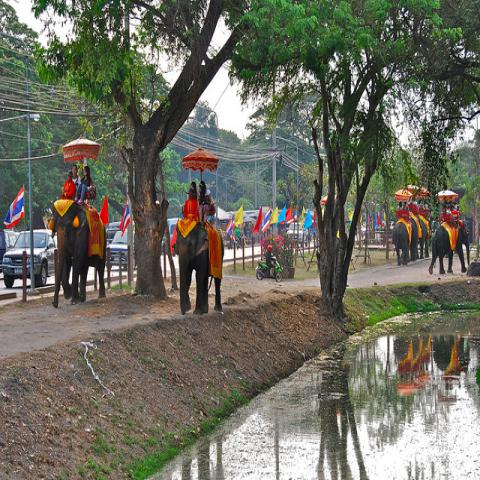car: (3, 230, 57, 288), (104, 228, 137, 272), (0, 228, 18, 266), (285, 221, 309, 248), (106, 229, 120, 248)
motorcycle: (255, 254, 284, 283), (227, 237, 234, 251), (236, 238, 240, 251)
truck: (1, 228, 57, 288), (167, 218, 179, 243)
